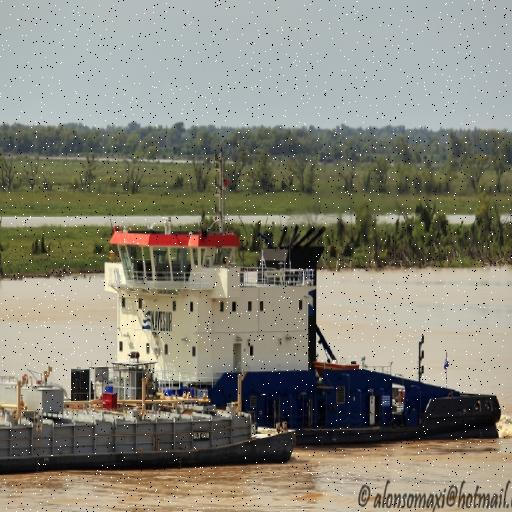tugboat: (69, 144, 508, 459)
